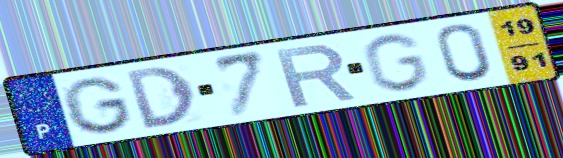0: (435, 22, 495, 83)
7: (212, 47, 269, 121)
D: (122, 64, 199, 132)
G: (58, 75, 137, 136), (359, 32, 432, 94)
R: (271, 41, 360, 110)
